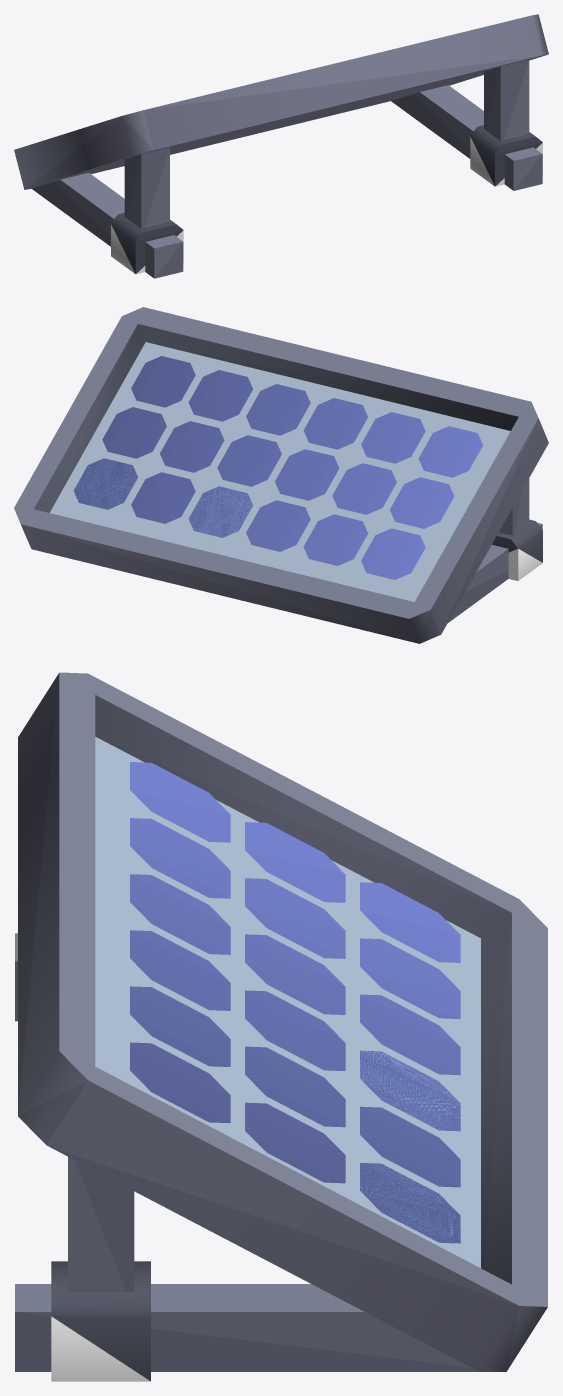
Rendered from solar-panel-landscape.obj.
3 renders of one model, top to bottom at view 1: azimuth 30°, elevation 25°; view 2: azimuth 150°, elevation 25°; view 3: azimuth 270°, elevation 25°, orthographic. The views are drawn at different scales.
Bounding box in the file's own units: 0.7134 × 0.2624 × 0.3951.
